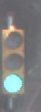Green: (3, 21, 31, 108)
